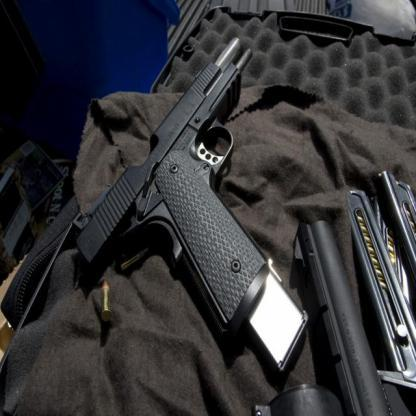weapon: (73, 37, 308, 387)
